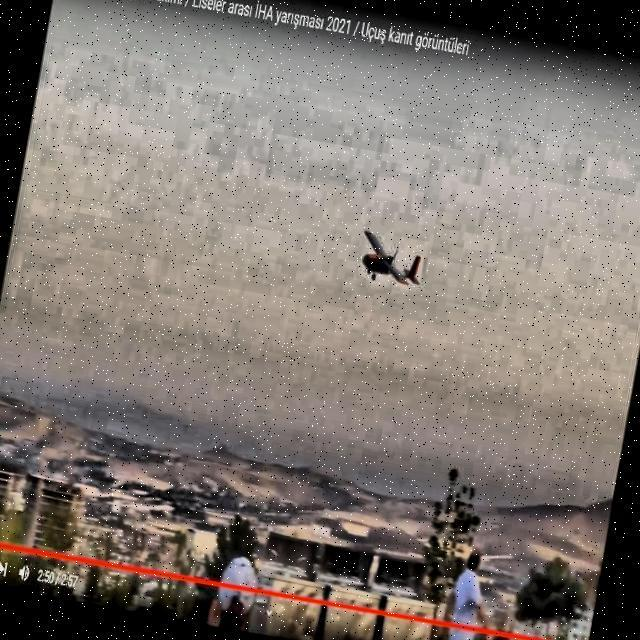iha: (374, 252, 399, 270)
